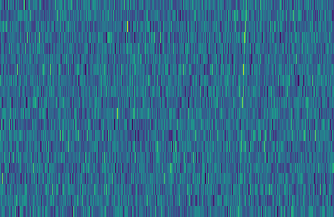signal: (235, 0, 252, 217)
